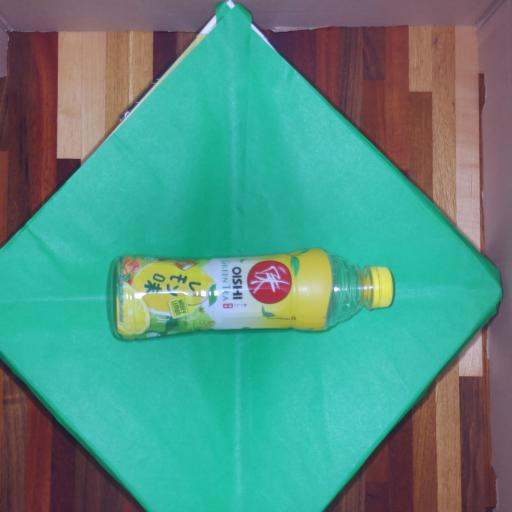bottle: (113, 249, 393, 339)
